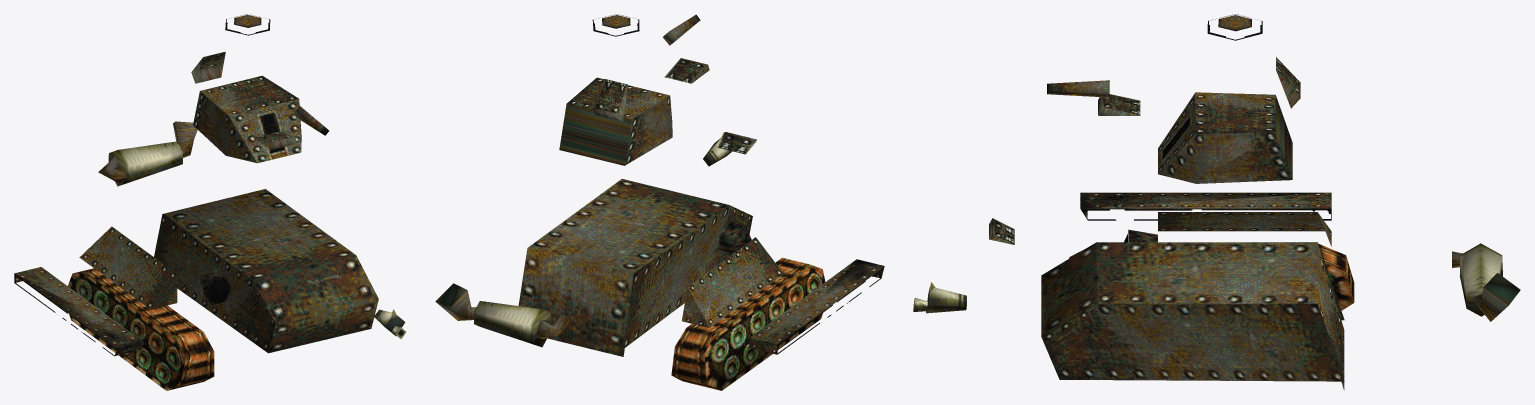
Rendered from Tank Field.FBX.
3 views of the same model, side by side, from view 1: azimuth 30°, elevation 25°; view 2: azimuth 150°, elevation 25°; view 3: azimuth 270°, elevation 25° (orthographic). The views are drawn at different scales.
Parts seen in each view (by area): view 1: Chasis, TrackHub (×2), Turret, Plating, TankTracks, Exhaust, Pannel (×2), Gun (×2), LightHub, Hatch; view 2: Chasis, TrackHub (×2), Turret, Plating, Exhaust, TankTracks, Pannel (×3), LightHub, Hatch, Gun; view 3: Chasis, Turret, TrackHub (×2), Plating, Exhaust, Gun (×2), Pannel (×2), Hatch, TankTracks.
Boxes of the visible parts, box(x1,y1,x2,y2) form: Chasis: box(154, 189, 378, 353); TrackHub (×2): box(14, 267, 185, 390); Turret: box(193, 75, 301, 163); Plating: box(79, 226, 177, 309); TankTracks: box(75, 268, 214, 390); Exhaust: box(98, 121, 197, 186); Pannel (×2): box(191, 51, 296, 149); Gun (×2): box(293, 105, 405, 338); LightHub: box(200, 273, 231, 304); Hatch: box(225, 14, 270, 35); Chasis: box(518, 179, 752, 356); TrackHub (×2): box(704, 259, 884, 390); Turret: box(559, 77, 672, 165); Plating: box(682, 237, 783, 327); Exhaust: box(435, 283, 569, 347); TankTracks: box(671, 257, 809, 390); Pannel (×3): box(592, 58, 756, 154); LightHub: box(719, 222, 751, 255); Hatch: box(592, 14, 639, 36); Gun: box(663, 14, 700, 45); Chasis: box(1041, 242, 1344, 390); Turret: box(1158, 92, 1292, 183); TrackHub (×2): box(1080, 192, 1353, 310); Plating: box(1158, 212, 1331, 246); Exhaust: box(1452, 243, 1520, 321); Gun (×2): box(913, 80, 1109, 313); Pannel (×2): box(1098, 57, 1300, 115); Hatch: box(1207, 14, 1262, 40); TankTracks: box(1069, 244, 1354, 302).
Size of what is drawn, in the model's own units: 198 by 221 by 334.
